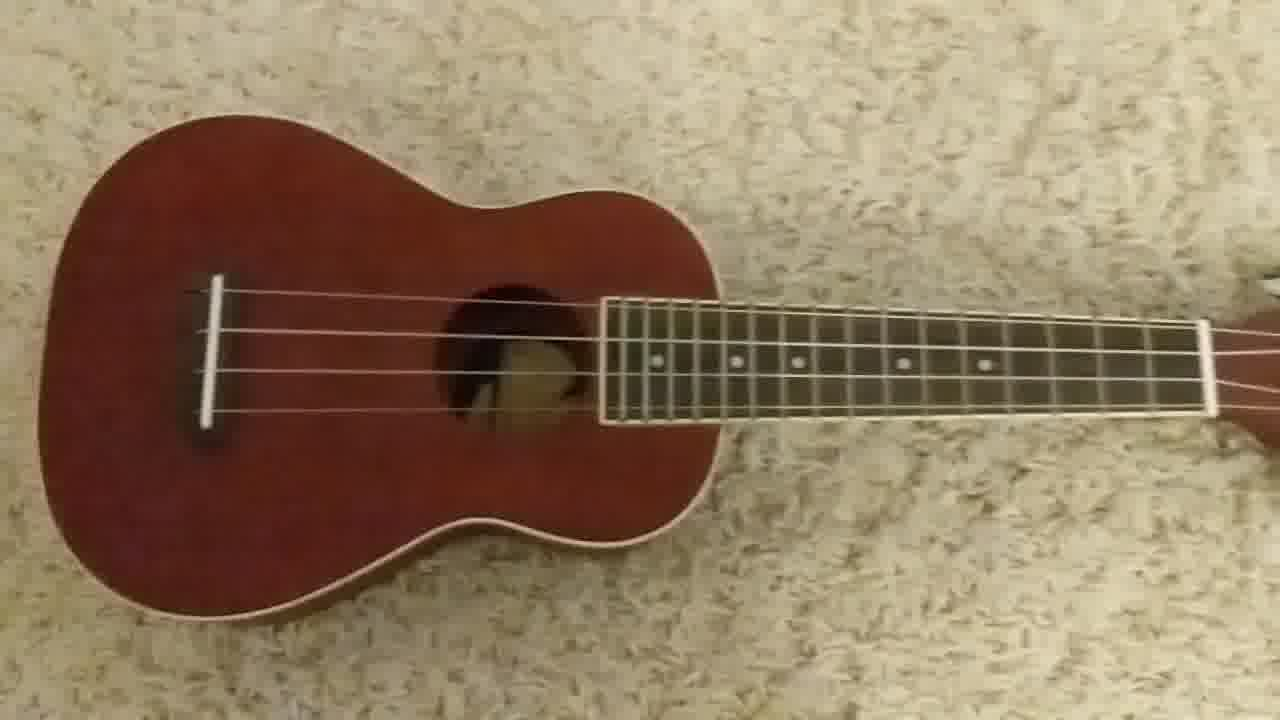Body: (37, 112, 735, 625)
Bridge: (180, 269, 240, 438)
Headstock: (1209, 259, 1280, 469)
